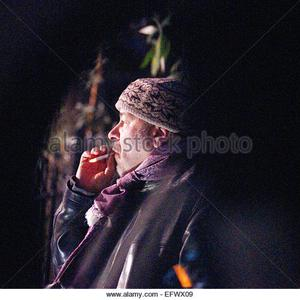cigarette: (87, 153, 114, 165)
